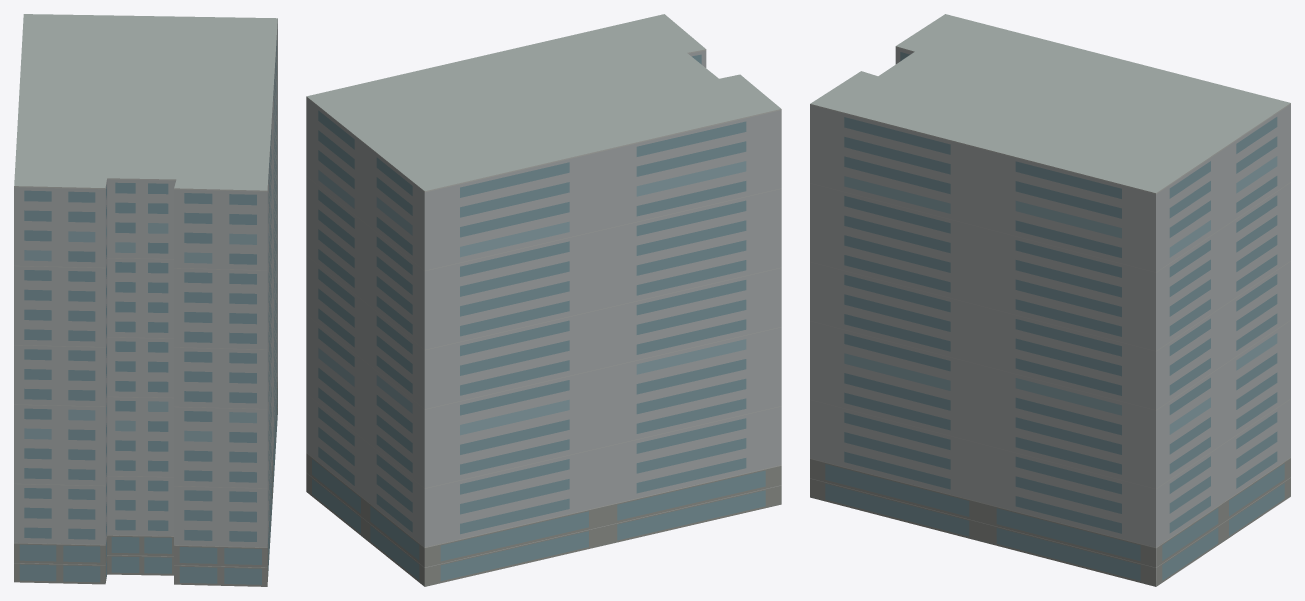
The model's file is survey-upis-32731267.glb.
The picture shows the model from 3 angles, left to right: view 1: azimuth 30°, elevation 25°; view 2: azimuth 150°, elevation 25°; view 3: azimuth 270°, elevation 25°; orthographic projection.
Parts seen in each view (by area): view 1: survey-upis-32731267.tmp; view 2: survey-upis-32731267.tmp; view 3: survey-upis-32731267.tmp.
Part boxes in pixels (x1,y1,x2,y2): survey-upis-32731267.tmp: [14, 14, 277, 586]; survey-upis-32731267.tmp: [306, 14, 781, 586]; survey-upis-32731267.tmp: [810, 14, 1290, 586].
Bounding box in the file's own units: 80.39 × 82.31 × 91.12.
